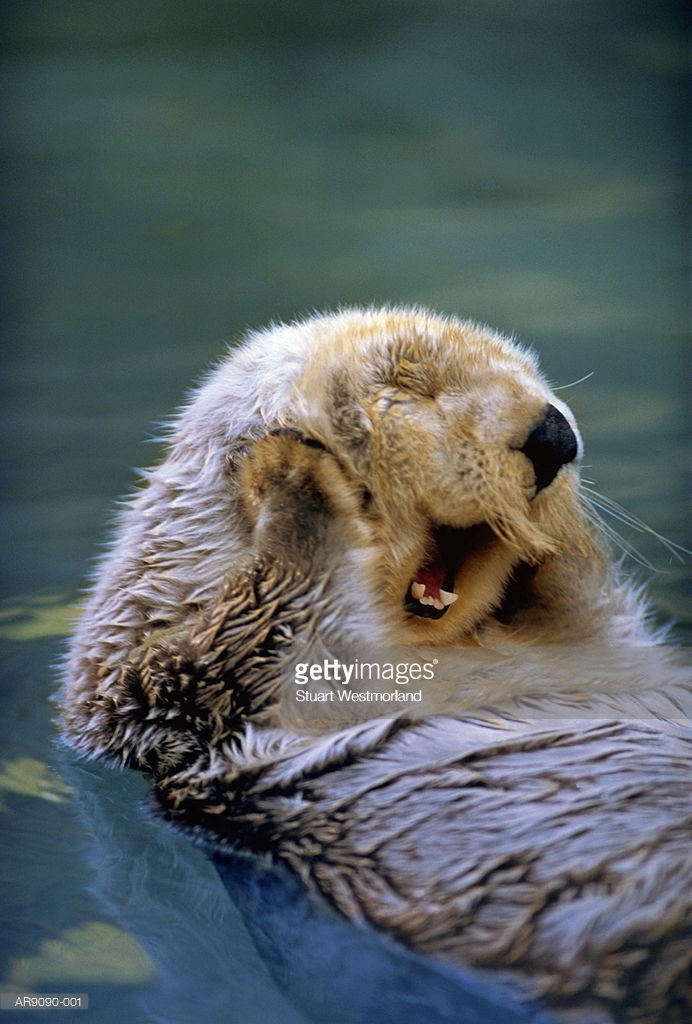otter: (49, 271, 692, 984)
